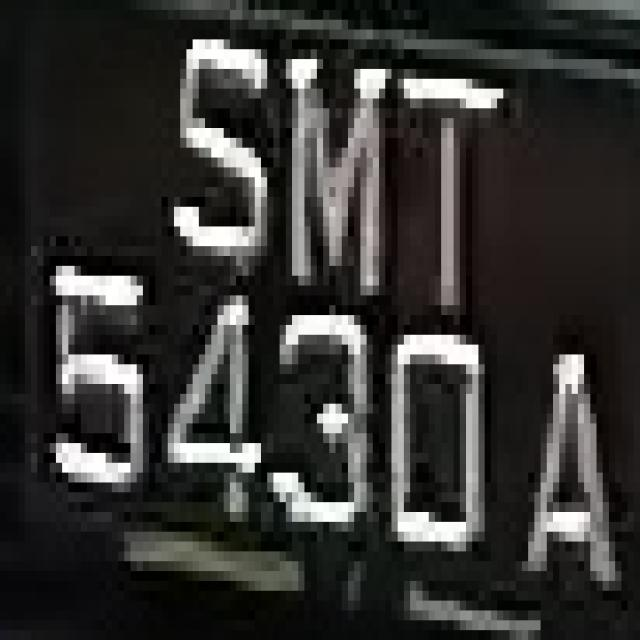0: (379, 276, 491, 590)
3: (280, 286, 385, 561)
4: (156, 256, 274, 532)
5: (38, 197, 156, 522)
A: (497, 315, 634, 630)
M: (273, 29, 404, 286)
S: (155, 0, 267, 295)
T: (398, 20, 503, 315)
